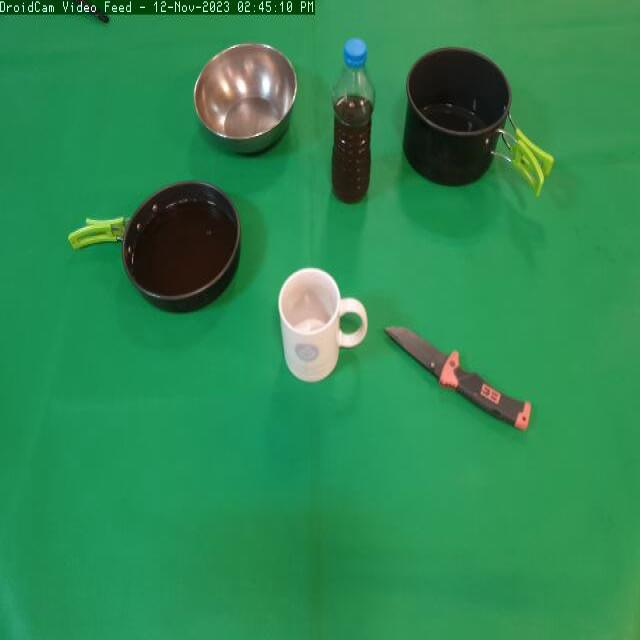bowl: (190, 41, 298, 159)
cup: (273, 262, 368, 393)
fullbottle: (326, 32, 381, 218)
fullpan: (58, 168, 244, 319)
knife: (376, 324, 538, 446)
pot: (395, 34, 560, 200)
